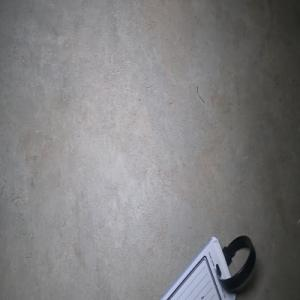LuggageTag: (158, 233, 257, 300)
